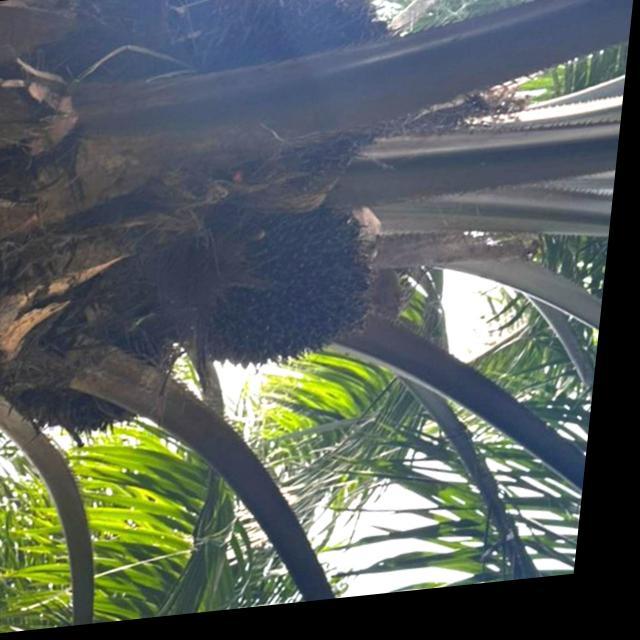unripe: (180, 192, 394, 387), (24, 298, 185, 446)
